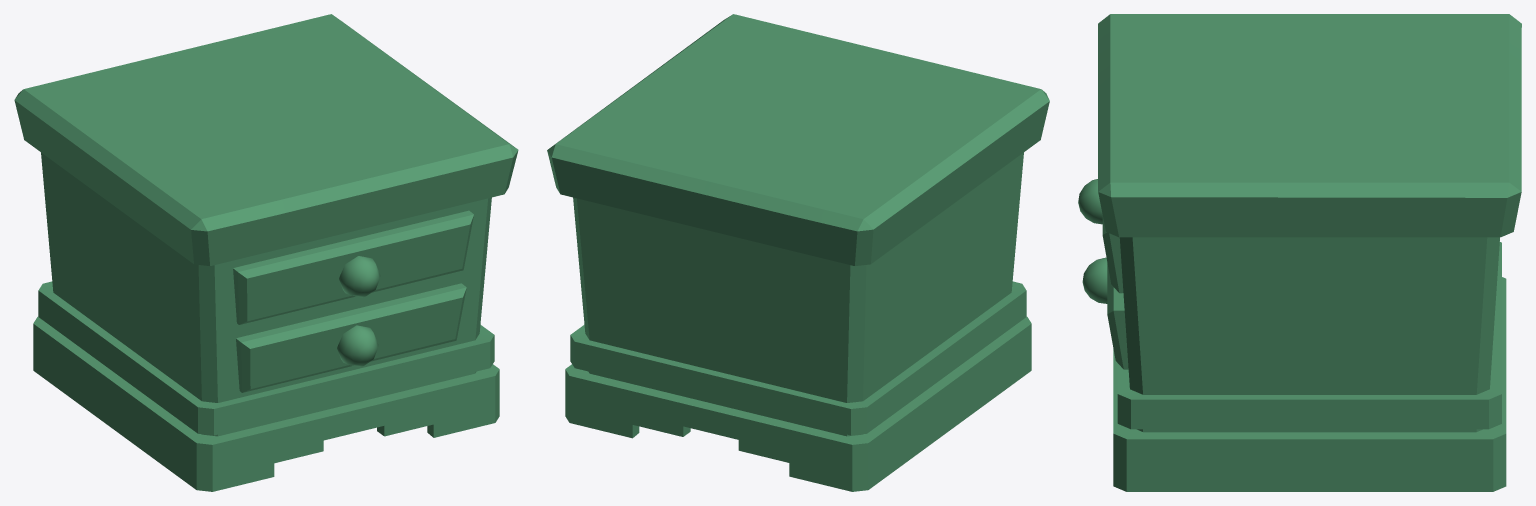
The model's file is Bedside_Table_V3.fbx.
The picture shows the model from 3 angles, left to right: view 1: azimuth 30°, elevation 25°; view 2: azimuth 150°, elevation 25°; view 3: azimuth 270°, elevation 25°; orthographic projection. The views are drawn at different scales.
Visible parts, largest first — view 1: Bedside_Table; view 2: Bedside_Table; view 3: Bedside_Table.
Boxes of the visible parts, x1=… form: Bedside_Table: x1=14, y1=14, x2=518, y2=491; Bedside_Table: x1=547, y1=14, x2=1049, y2=491; Bedside_Table: x1=1078, y1=14, x2=1521, y2=491.
Size of the model in its own units: 149 by 120 by 156.
